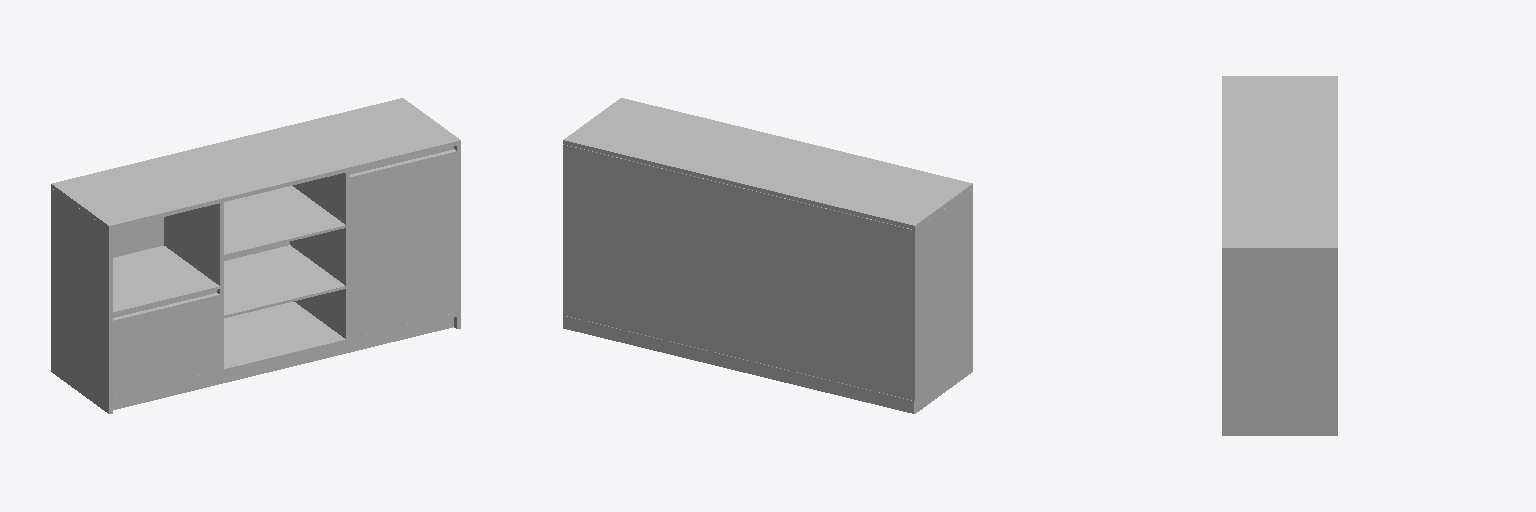
The model's file is BILLUNDx2x4.obj.
3 renders of one model, left to right at view 1: azimuth 30°, elevation 25°; view 2: azimuth 150°, elevation 25°; view 3: azimuth 270°, elevation 25°, orthographic.
Parts seen in each view (by area): view 1: Cube_Cube.001, Cube.008_Cube.009, Cube.004_Cube.005; view 2: Cube.004_Cube.005, Cube_Cube.001; view 3: Cube_Cube.001.
Part boxes in pixels (left/top/right/bottom): Cube_Cube.001: left=51, top=98, right=460, bottom=413; Cube.008_Cube.009: left=113, top=149, right=456, bottom=395; Cube.004_Cube.005: left=113, top=217, right=289, bottom=260; Cube.004_Cube.005: left=563, top=144, right=914, bottom=396; Cube_Cube.001: left=563, top=98, right=972, bottom=413; Cube_Cube.001: left=1222, top=76, right=1337, bottom=435.
Bounding box in the file's own units: 2.8 × 1.43 × 0.8031.